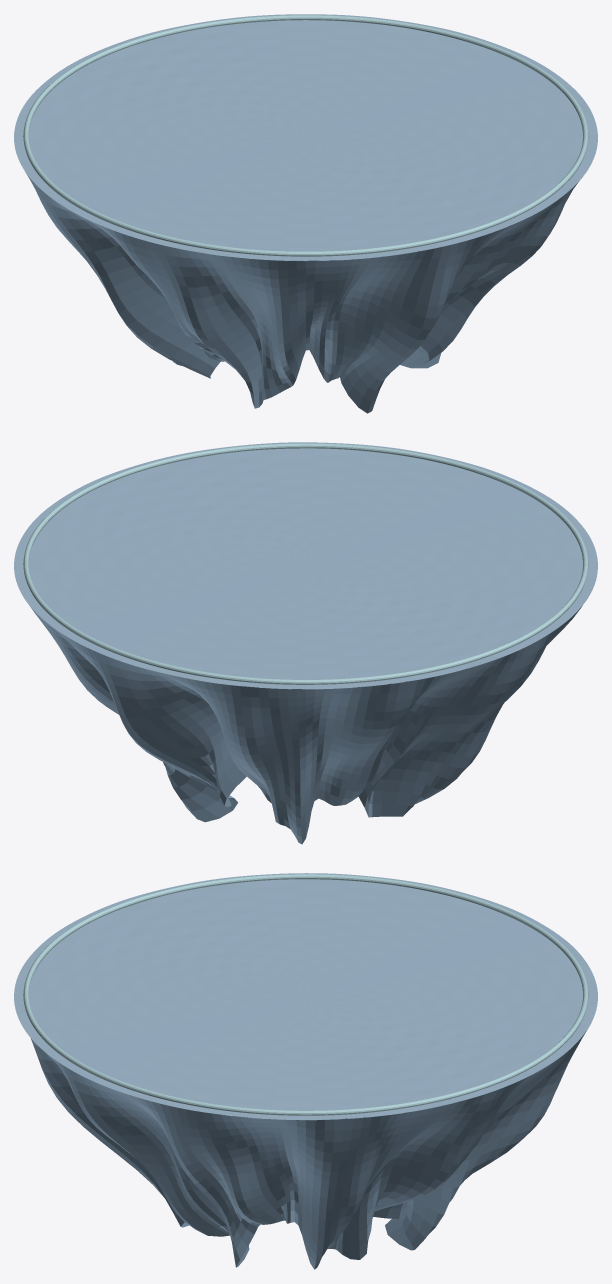
File: island_skin.glb
The picture shows the model from 3 angles, top to bottom: view 1: azimuth 30°, elevation 25°; view 2: azimuth 150°, elevation 25°; view 3: azimuth 270°, elevation 25°; orthographic projection.
Parts seen in each view (by area): view 1: Skin_TerrainTop.001, Skin_FracturedCliff.001, Skin_MetalRim.001; view 2: Skin_TerrainTop.001, Skin_FracturedCliff.001, Skin_MetalRim.001; view 3: Skin_TerrainTop.001, Skin_FracturedCliff.001, Skin_MetalRim.001.
Part boxes in pixels (x1,y1,x2,y2): Skin_TerrainTop.001: (14,14,597,260); Skin_FracturedCliff.001: (18,159,581,413); Skin_MetalRim.001: (23,15,588,256); Skin_TerrainTop.001: (14,442,597,689); Skin_FracturedCliff.001: (25,597,588,844); Skin_MetalRim.001: (23,443,588,684); Skin_TerrainTop.001: (14,873,597,1119); Skin_FracturedCliff.001: (18,1018,589,1269); Skin_MetalRim.001: (23,874,588,1115).
Bounding box in the file's own units: 9.56 × 4.25 × 9.56.
